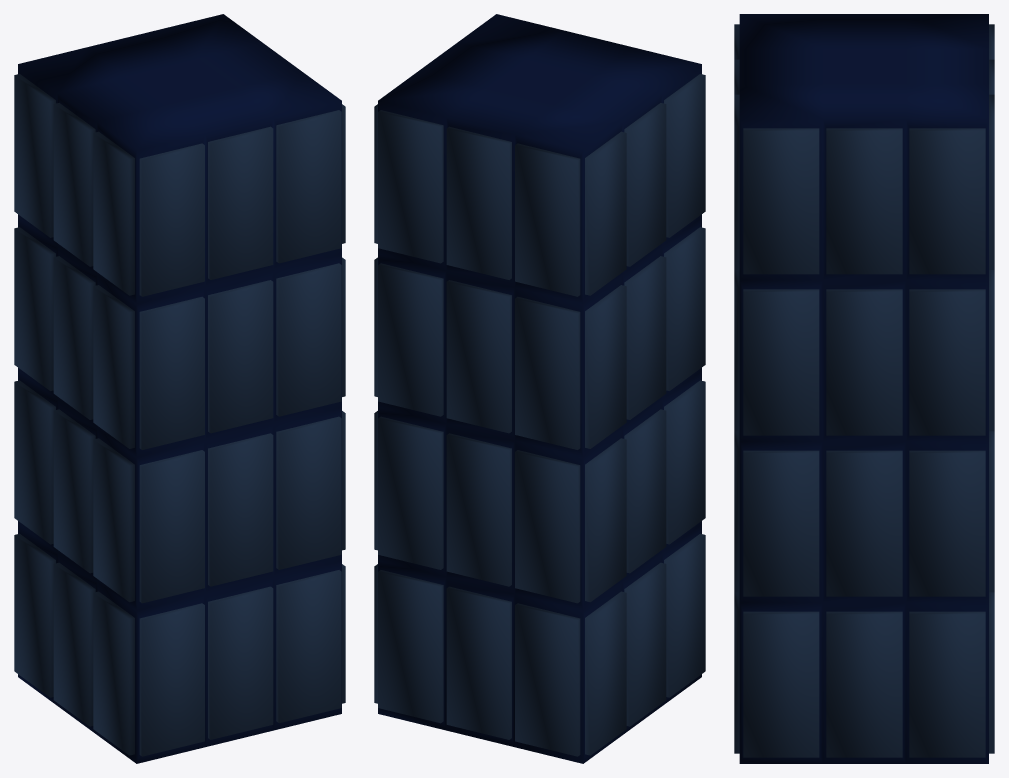
File: PredioLadrilhos.fbx
The picture shows the model from 3 angles, left to right: view 1: azimuth 30°, elevation 25°; view 2: azimuth 150°, elevation 25°; view 3: azimuth 270°, elevation 25°; orthographic projection. The views are drawn at different scales.
Parts seen in each view (by area): view 1: Cube; view 2: Cube; view 3: Cube.
Part boxes in pixels (x1,y1,x2,y2): Cube: (14,14,345,763); Cube: (374,14,705,763); Cube: (734,14,994,763).
Size of the model in its own units: 994 by 2694 by 986.
